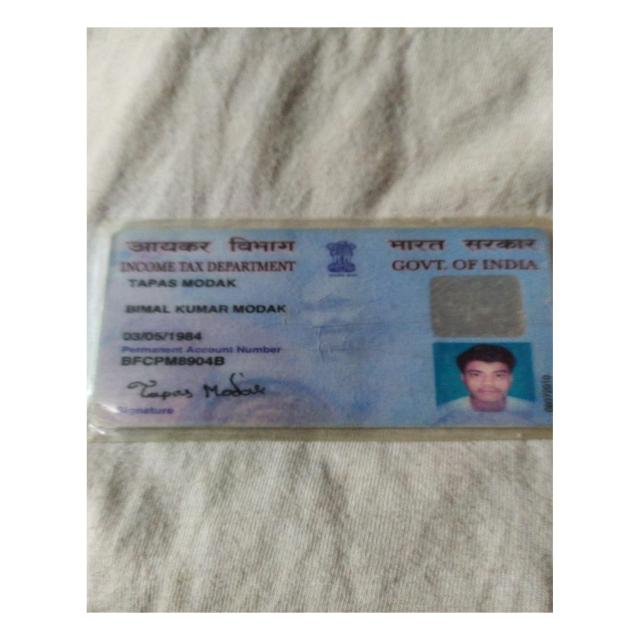pan_card: (97, 230, 546, 427)
